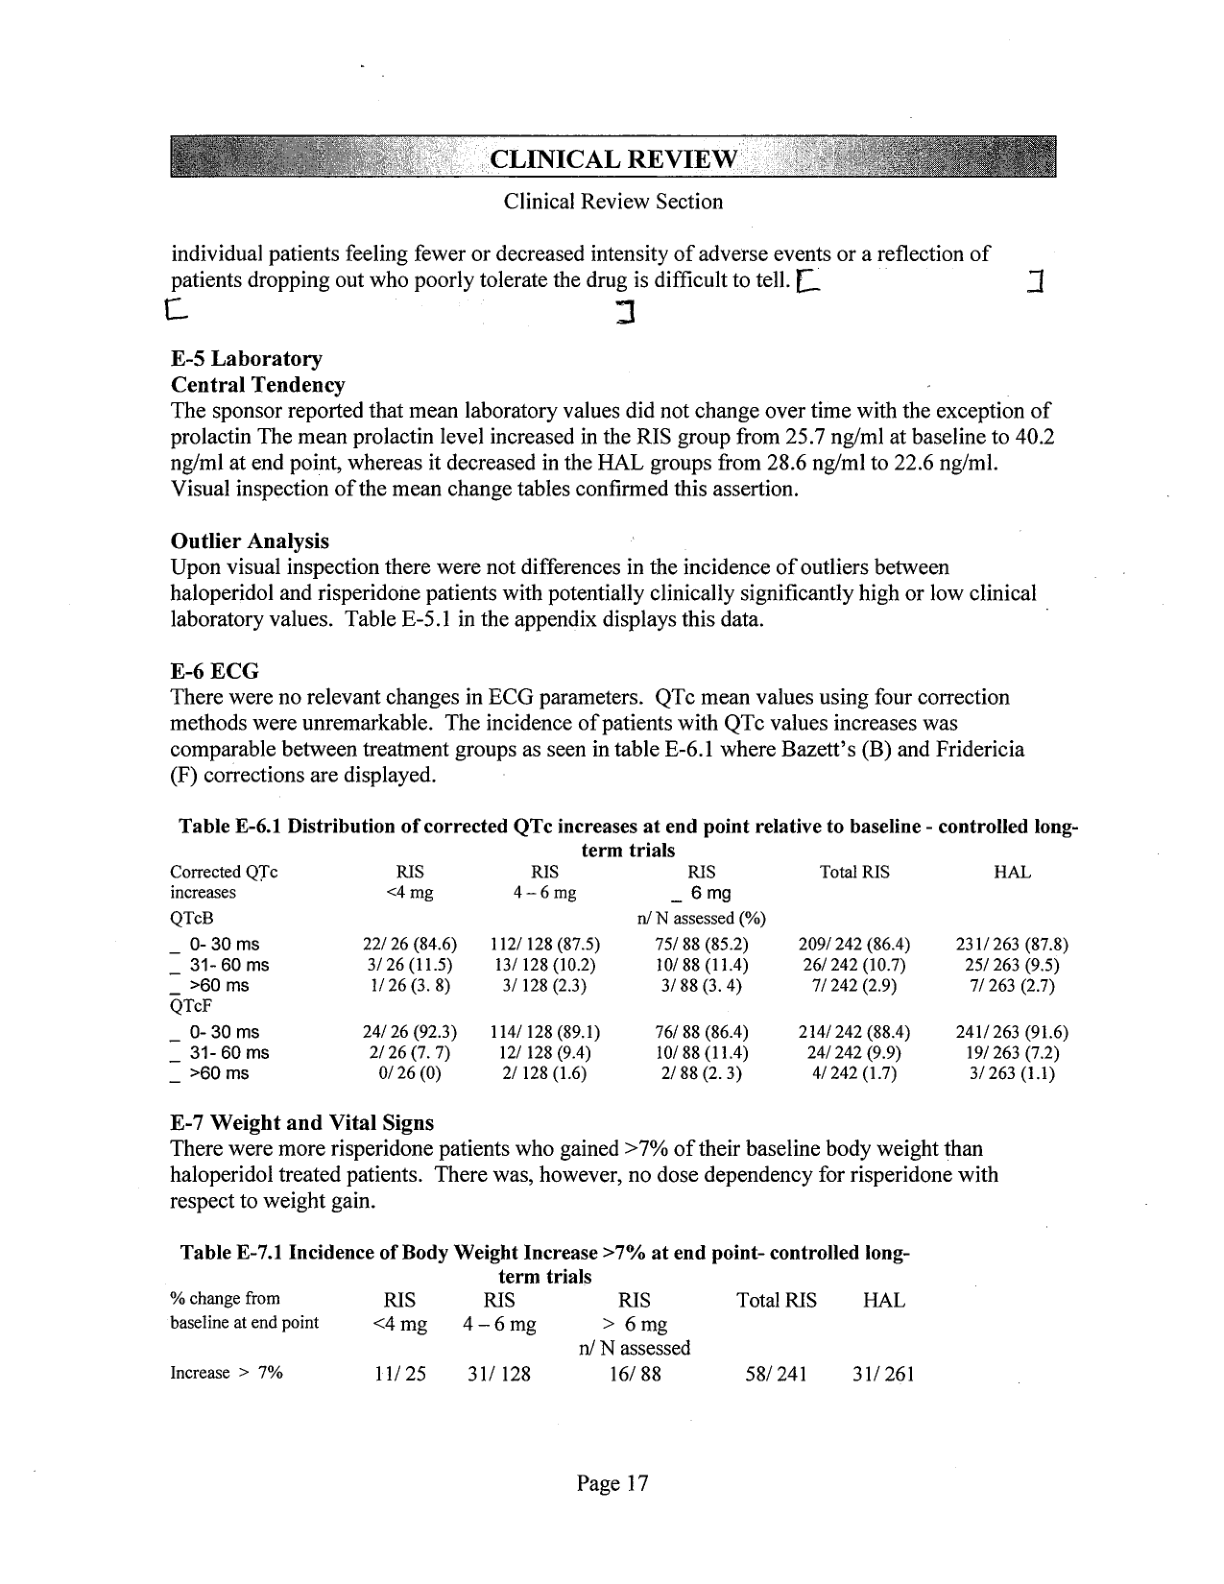nolines: (167, 861, 1070, 1088), (165, 1286, 918, 1385)
